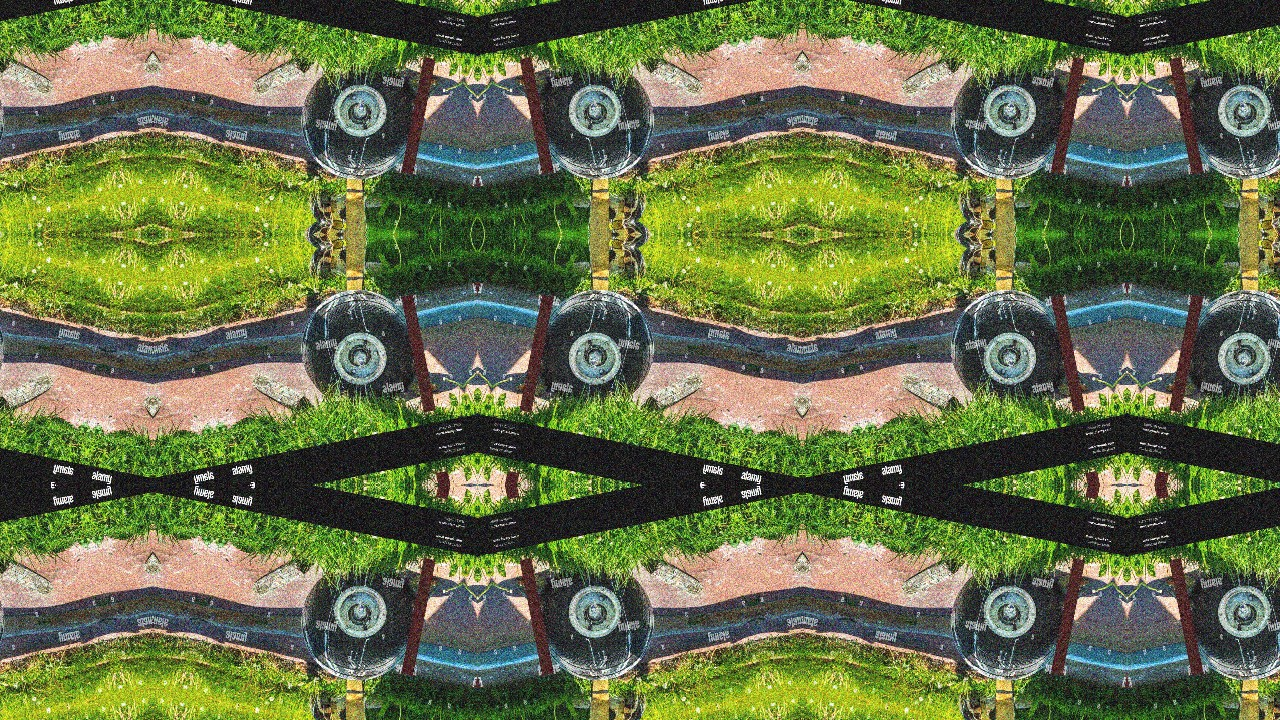chock: (249, 49, 311, 109), (644, 49, 706, 109), (899, 49, 961, 109), (249, 360, 311, 420), (644, 360, 706, 420), (899, 360, 961, 420), (249, 550, 311, 610), (644, 550, 706, 610), (899, 550, 961, 610), (0, 49, 56, 109), (0, 360, 56, 420), (0, 550, 56, 610), (400, 70, 441, 119), (514, 70, 555, 119), (1050, 70, 1091, 119), (1164, 70, 1205, 119), (400, 350, 441, 399), (514, 350, 555, 399), (1050, 350, 1091, 399), (1164, 350, 1205, 399), (400, 572, 441, 620), (514, 572, 555, 620), (1050, 572, 1091, 620), (1164, 572, 1205, 620)
wheel: (291, 58, 424, 189), (531, 58, 664, 189), (941, 58, 1074, 189), (291, 280, 424, 411), (531, 280, 664, 411), (941, 280, 1074, 411), (291, 560, 424, 690), (531, 560, 664, 690), (941, 560, 1074, 690), (1181, 58, 1280, 189), (1181, 280, 1280, 411), (1181, 560, 1280, 690), (0, 58, 14, 189), (0, 280, 14, 411), (0, 560, 14, 690)
